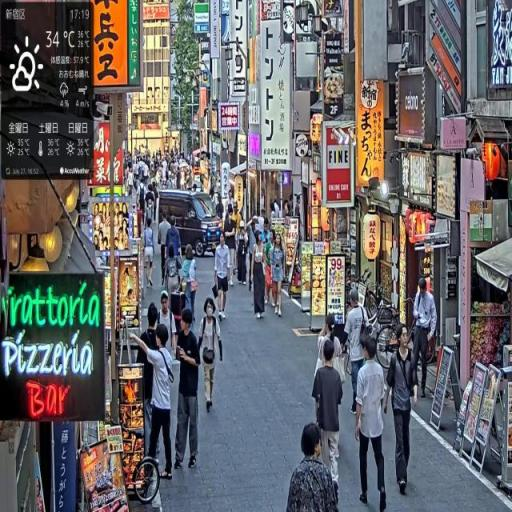person: (137, 320, 177, 483), (383, 325, 420, 501), (355, 335, 391, 512), (312, 341, 345, 505), (172, 307, 203, 473), (287, 420, 340, 512), (410, 275, 439, 402), (197, 296, 225, 417), (344, 290, 369, 419), (252, 230, 269, 319), (214, 234, 231, 322), (270, 231, 286, 318), (183, 245, 200, 326), (143, 216, 157, 292), (159, 210, 172, 289)
